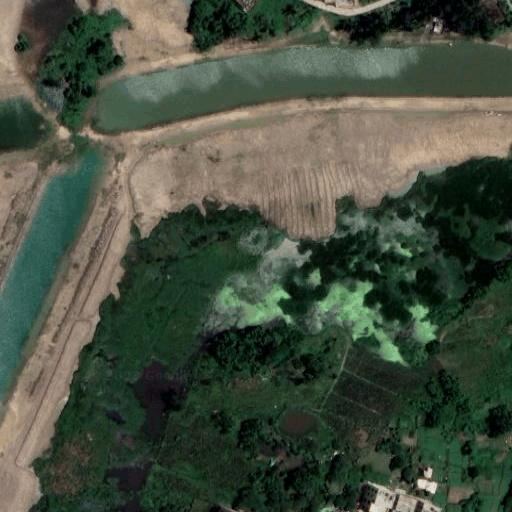building: (474, 0, 506, 30), (379, 491, 406, 512), (413, 476, 439, 495), (362, 485, 384, 506), (408, 499, 429, 512), (430, 17, 446, 33), (359, 501, 379, 512), (325, 0, 356, 7), (422, 467, 434, 481)
